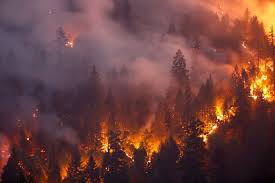fire: (141, 78, 259, 165), (214, 2, 275, 141), (60, 119, 205, 170)
smoke: (1, 4, 209, 138)
